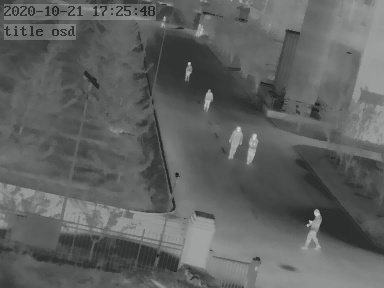person: (305, 205, 321, 247), (227, 125, 242, 162), (245, 130, 259, 164), (202, 87, 214, 112), (184, 58, 194, 84), (196, 23, 203, 37), (160, 15, 166, 29)
